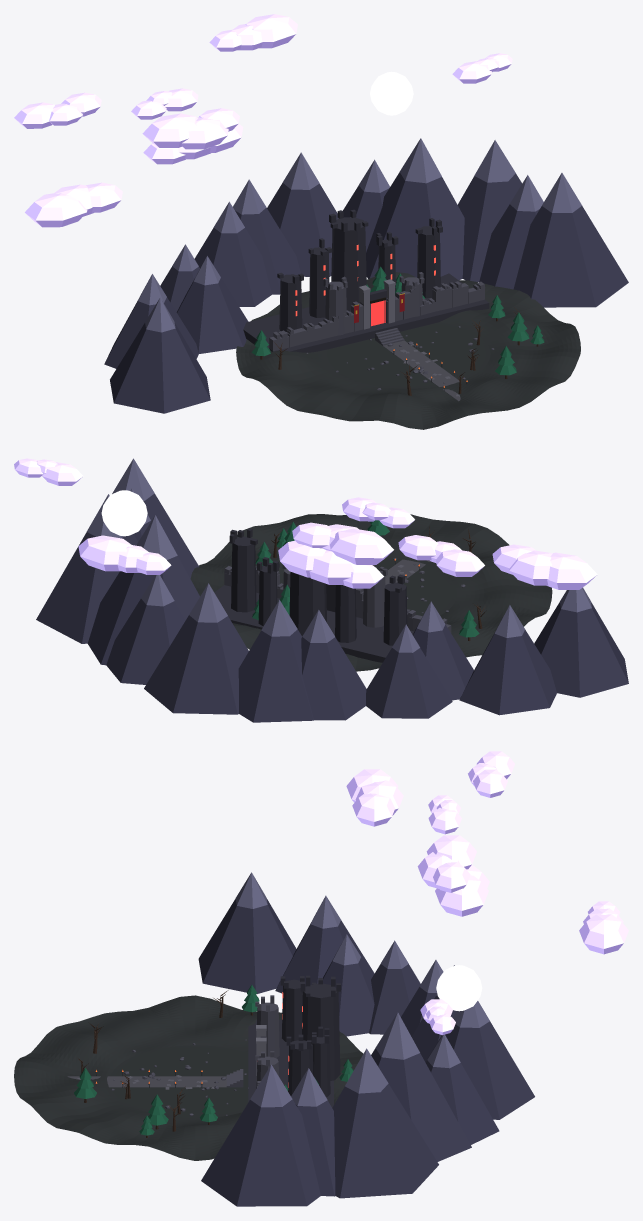
The model's file is ruinas-sombrias.glb.
3 views of the same model, one above another, from view 1: azimuth 30°, elevation 25°; view 2: azimuth 150°, elevation 25°; view 3: azimuth 270°, elevation 25° (orthographic). The views are drawn at different scales.
Visible parts, largest first — view 1: Montanhas, Terreno, Nuvens, Fundo, Muralha, Base, Arvores, Torres, Lua, Portao; view 2: Montanhas, Nuvens, Terreno, Fundo, Base, Lua, Arvores, Torres, Muralha; view 3: Montanhas, Terreno, Nuvens, Fundo, Arvores, Lua, Torres, Base.
Part boxes in pixels (left/top/right/bottom): Montanhas: left=104, top=138, right=628, bottom=413; Terreno: left=236, top=272, right=580, bottom=429; Nuvens: left=14, top=14, right=512, bottom=227; Fundo: left=277, top=209, right=442, bottom=331; Muralha: left=269, top=281, right=485, bottom=351; Base: left=243, top=273, right=489, bottom=352; Arvores: left=251, top=266, right=544, bottom=395; Torres: left=323, top=272, right=424, bottom=335; Lua: left=370, top=71, right=413, bottom=115; Portao: left=358, top=279, right=395, bottom=329; Montanhas: left=36, top=458, right=628, bottom=722; Nuvens: left=14, top=458, right=597, bottom=589; Terreno: left=190, top=514, right=552, bottom=671; Fundo: left=229, top=528, right=407, bottom=645; Base: left=214, top=585, right=414, bottom=662; Lua: left=101, top=490, right=147, bottom=536; Arvores: left=252, top=520, right=486, bottom=640; Torres: left=282, top=564, right=387, bottom=627; Muralha: left=224, top=566, right=451, bottom=632; Montanhas: left=198, top=872, right=534, bottom=1206; Terreno: left=14, top=995, right=363, bottom=1160; Nuvens: left=346, top=751, right=628, bottom=1035; Fundo: left=280, top=975, right=340, bottom=1096; Arvores: left=74, top=985, right=353, bottom=1137; Lua: left=436, top=965, right=482, bottom=1011; Torres: left=255, top=995, right=279, bottom=1088; Base: left=248, top=1020, right=333, bottom=1107.
Bounding box in the file's own units: 98.37 × 36.39 × 93.23.
